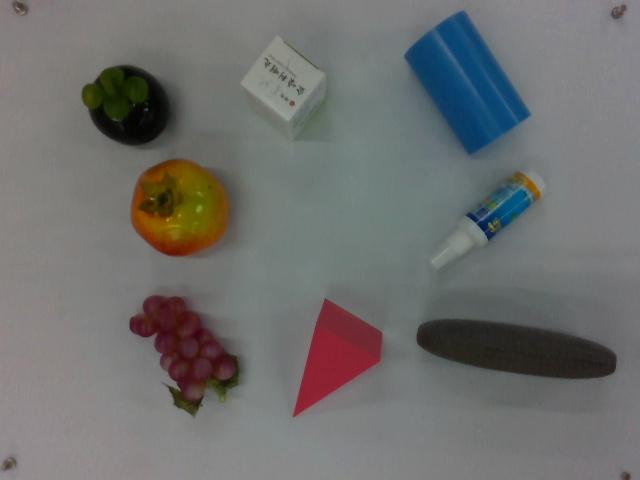carton: (237, 34, 333, 140)
cylinder: (402, 8, 533, 154)
detergent: (424, 163, 553, 274)
glassescase: (414, 317, 620, 385)
grape: (130, 287, 243, 418)
mangosteen: (78, 60, 171, 145)
pomegranate: (128, 155, 233, 259)
pyramid: (287, 295, 383, 422)
